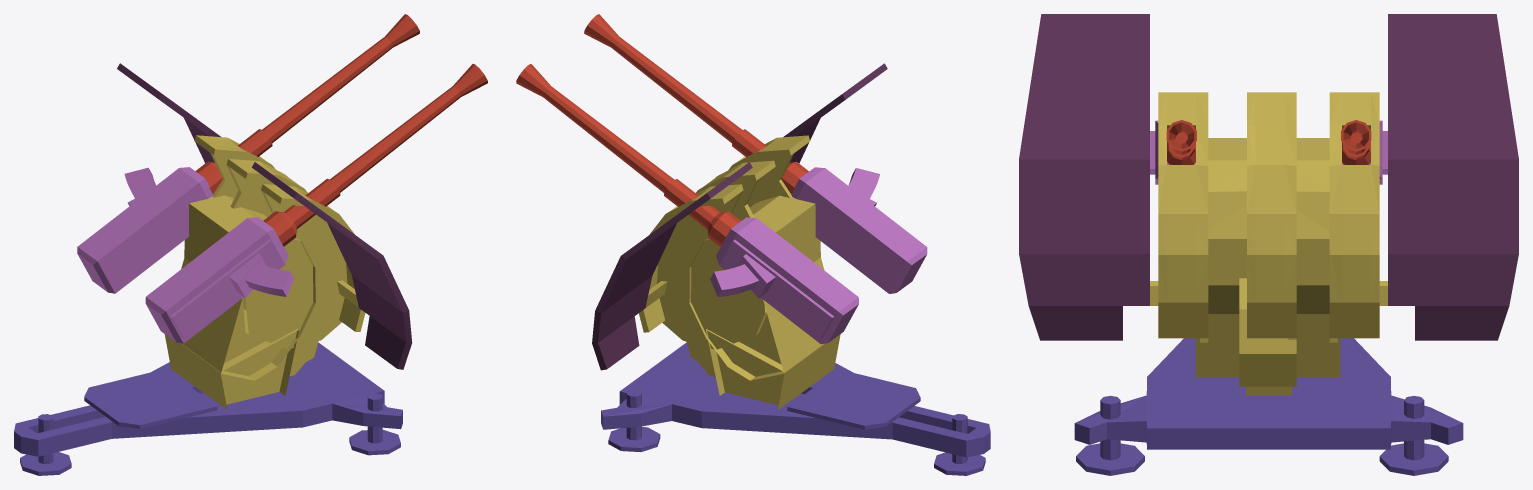
File: FlakCannon_Update_1.fbx
3 views of the same model, side by side, from view 1: azimuth 30°, elevation 25°; view 2: azimuth 150°, elevation 25°; view 3: azimuth 270°, elevation 25° (orthographic). The views are drawn at different scales.
Visible parts, largest first — view 1: Attack, Base; view 2: Attack, Base; view 3: Attack, Base.
Boxes of the visible parts, x1=… form: Attack: x1=77, y1=14, x2=487, y2=409; Base: x1=14, y1=342, x2=402, y2=475; Attack: x1=516, y1=14, x2=927, y2=409; Base: x1=601, y1=342, x2=990, y2=475; Attack: x1=1019, y1=14, x2=1518, y2=395; Base: x1=1074, y1=338, x2=1463, y2=475.
Size of the model in its own units: 233 by 168 by 181.
